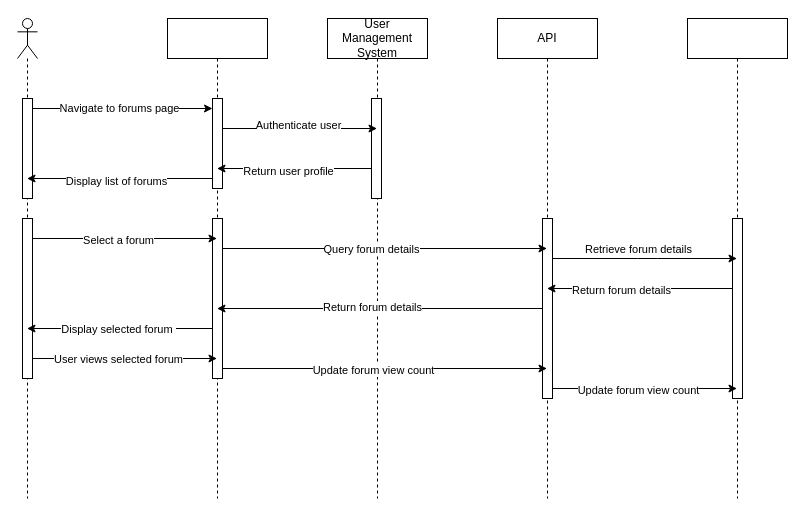
Image size: 805x516. Some labels were removed from this diagram. The centre of each missing label's shape, as x and y in pixels:
"Database" goes at (737,258).
"Forums Page" goes at (217,258).
